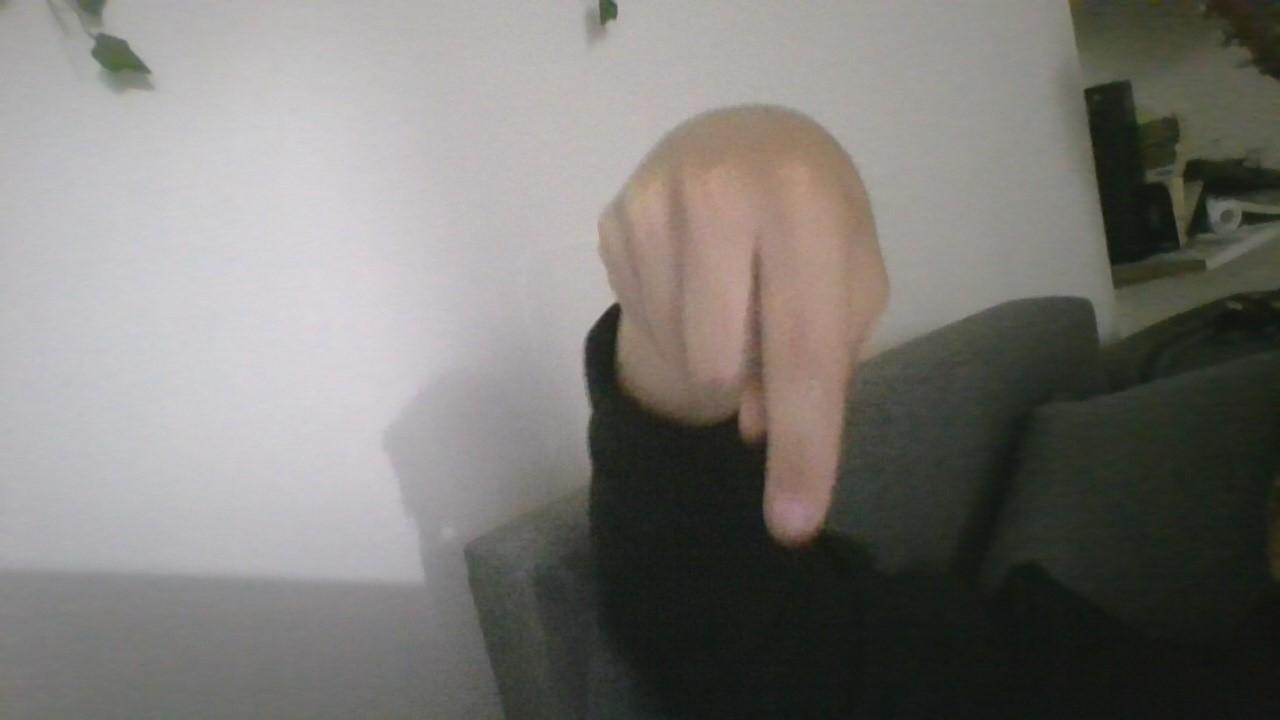down: (582, 69, 944, 560)
